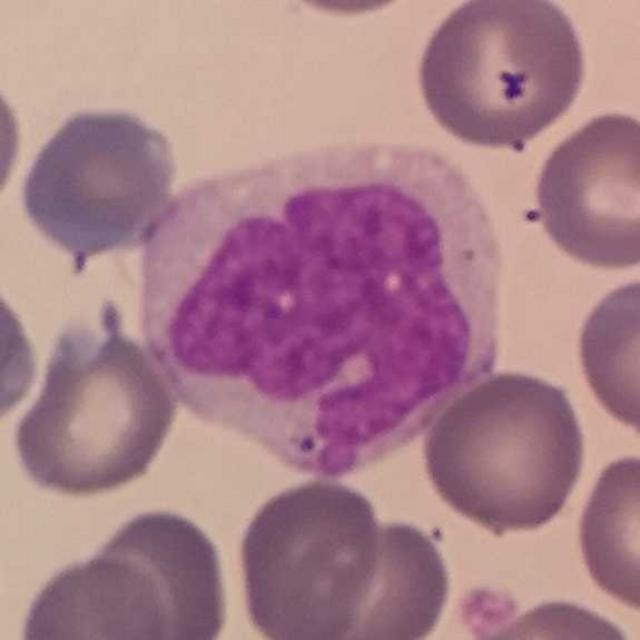Monocyte: (132, 133, 516, 494)
Platelets: (451, 587, 528, 637)
RBC: (8, 309, 182, 502), (417, 366, 590, 538), (411, 0, 592, 154), (14, 99, 182, 256), (232, 474, 388, 639), (271, 513, 458, 640), (79, 502, 235, 640), (525, 105, 640, 272), (12, 551, 175, 639), (570, 270, 640, 448), (570, 448, 640, 616), (456, 591, 639, 640), (0, 262, 45, 435), (0, 60, 28, 220), (263, 0, 443, 21)
